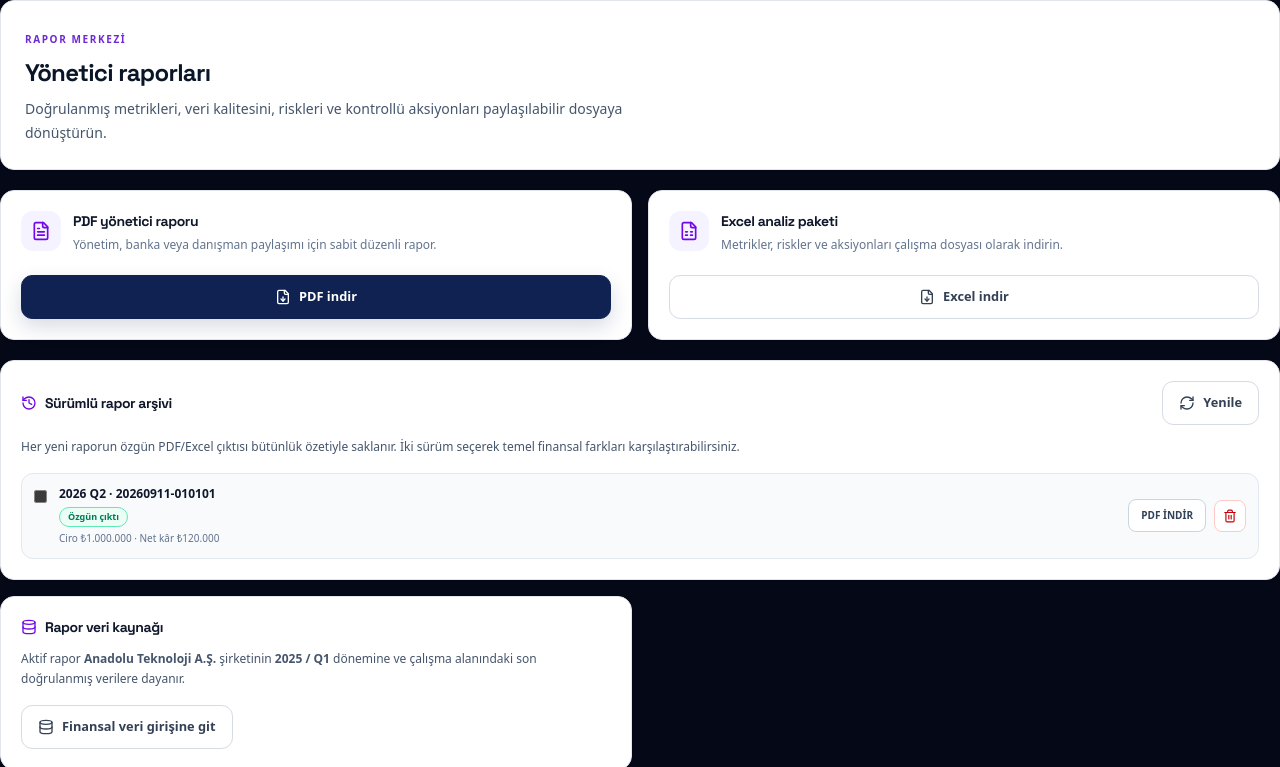
Test: motor sürümü değişse de özgün arşiv çıktısını yeniden üretilmiş gibi göstermez
The image size is (1280, 767).
Expected: the text "Özgün çıktı" is shown, [59,507,128,526]
Click the button "pdf indir". click: [1167, 516]
box: [1128,499,1206,532]
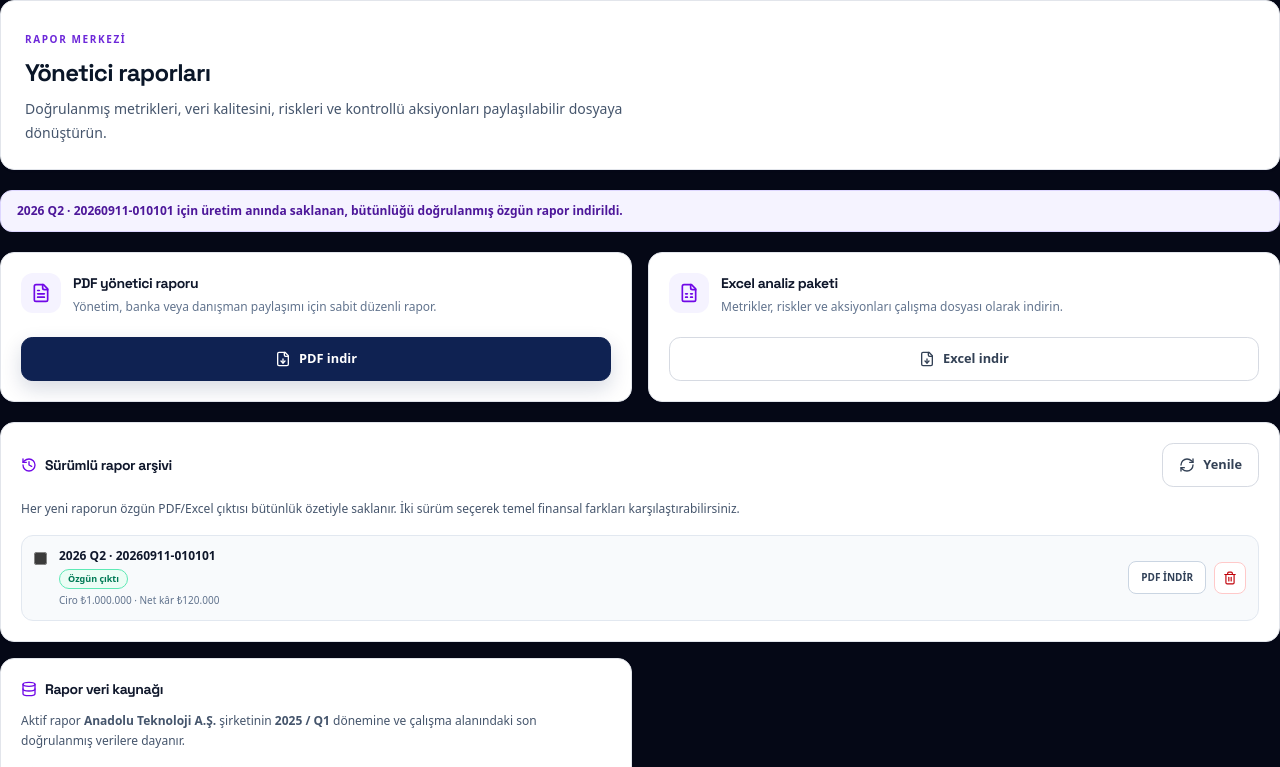
Now the text "bütünlüğü doğrulanmış özgün rapor indirildi" is shown, box [17,202,623,219]
